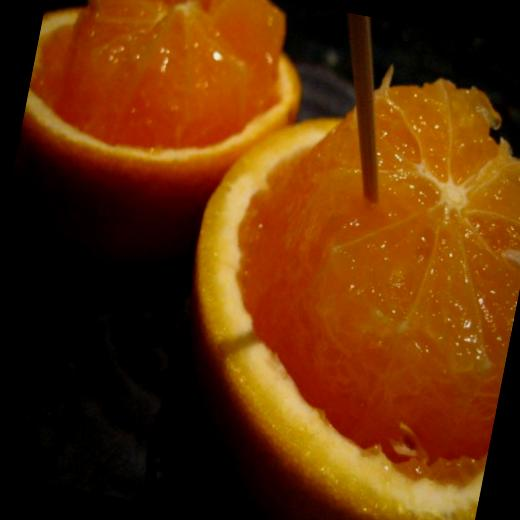Grape: (144, 34, 520, 520), (0, 0, 316, 292)
